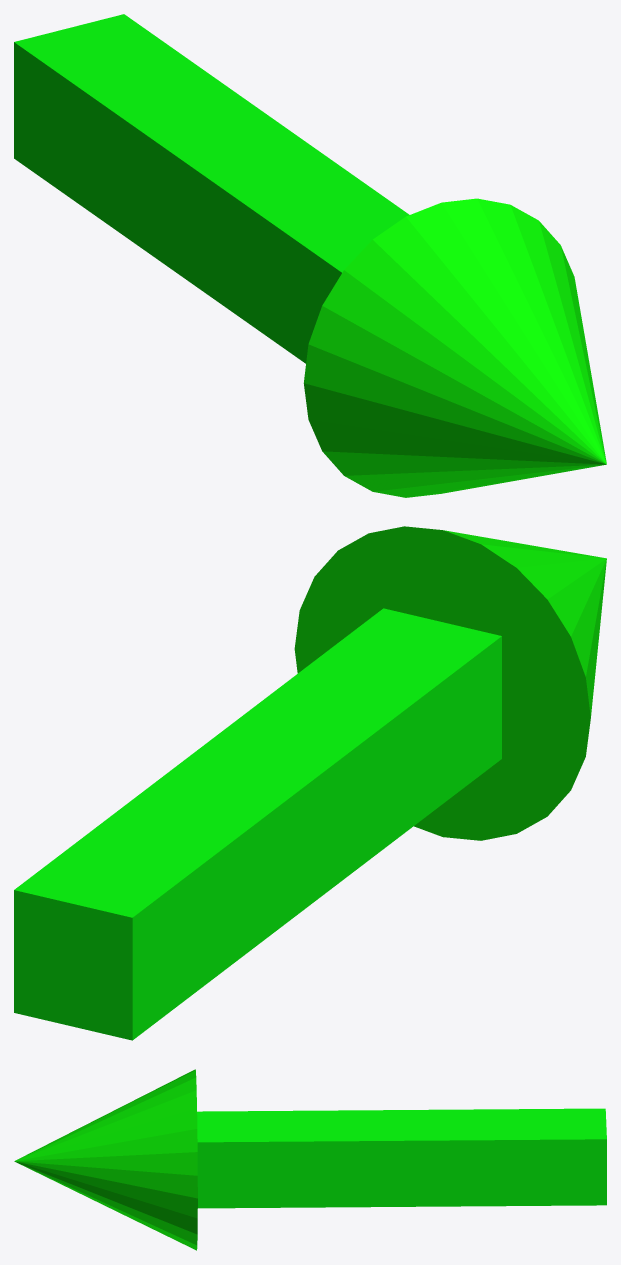
Rendered from tinker.obj.
The picture shows the model from 3 angles, top to bottom: view 1: azimuth 30°, elevation 25°; view 2: azimuth 150°, elevation 25°; view 3: azimuth 270°, elevation 25°; orthographic projection. The views are drawn at different scales.
Parts seen in each view (by area): view 1: group_0_589568, group_0_65287; view 2: group_0_65287, group_0_589568; view 3: group_0_65287, group_0_589568.
Part boxes in pixels (x1,y1,x2,y2): group_0_589568: (303,198,606,497); group_0_65287: (14,14,409,363); group_0_65287: (14,608,501,1040); group_0_589568: (294,526,606,840); group_0_65287: (197,1108,606,1208); group_0_589568: (14,1069,197,1250).
Size of the model in its own units: 20 by 20 by 65.06.
